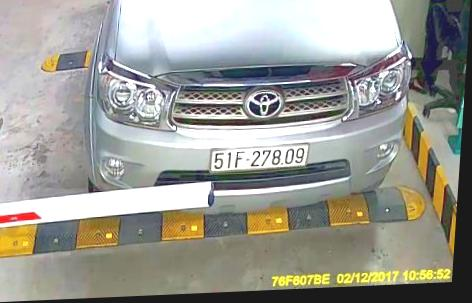License_Plate: (209, 141, 309, 172)
